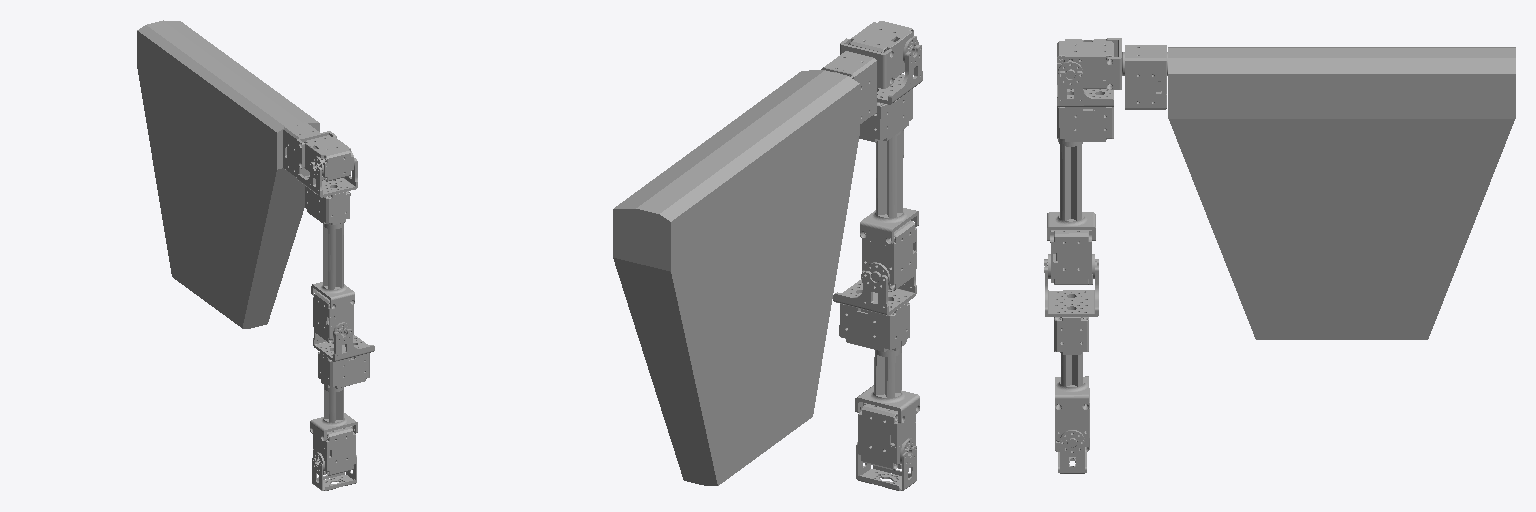
The robot description file, URDF, robot "humanoid":
<?xml version="1.0" ?>
<robot name="humanoid">
  <material name="silver">
    <color rgba="0.700 0.700 0.700 1.000"/>
  </material>
  <transmission name="rotation_26_tran">
    <type>transmission_interface/SimpleTransmission</type>
    <joint name="joint_1">
      <hardwareInterface>hardware_interface/EffortJointInterface</hardwareInterface>
    </joint>
    <actuator name="rotation_26_actr">
      <hardwareInterface>hardware_interface/EffortJointInterface</hardwareInterface>
      <mechanicalReduction>1</mechanicalReduction>
    </actuator>
  </transmission>
  <transmission name="rotation_28_tran">
    <type>transmission_interface/SimpleTransmission</type>
    <joint name="joint_2">
      <hardwareInterface>hardware_interface/EffortJointInterface</hardwareInterface>
    </joint>
    <actuator name="rotation_28_actr">
      <hardwareInterface>hardware_interface/EffortJointInterface</hardwareInterface>
      <mechanicalReduction>1</mechanicalReduction>
    </actuator>
  </transmission>
  <transmission name="rotation_30_tran">
    <type>transmission_interface/SimpleTransmission</type>
    <joint name="joint_3">
      <hardwareInterface>hardware_interface/EffortJointInterface</hardwareInterface>
    </joint>
    <actuator name="rotation_30_actr">
      <hardwareInterface>hardware_interface/EffortJointInterface</hardwareInterface>
      <mechanicalReduction>1</mechanicalReduction>
    </actuator>
  </transmission>
  <transmission name="rotation_32_tran">
    <type>transmission_interface/SimpleTransmission</type>
    <joint name="joint_4">
      <hardwareInterface>hardware_interface/EffortJointInterface</hardwareInterface>
    </joint>
    <actuator name="rotation_32_actr">
      <hardwareInterface>hardware_interface/EffortJointInterface</hardwareInterface>
      <mechanicalReduction>1</mechanicalReduction>
    </actuator>
  </transmission>
  <transmission name="rotation_34_tran">
    <type>transmission_interface/SimpleTransmission</type>
    <joint name="joint_5">
      <hardwareInterface>hardware_interface/EffortJointInterface</hardwareInterface>
    </joint>
    <actuator name="rotation_34_actr">
      <hardwareInterface>hardware_interface/EffortJointInterface</hardwareInterface>
      <mechanicalReduction>1</mechanicalReduction>
    </actuator>
  </transmission>
  <transmission name="rotation_35_tran">
    <type>transmission_interface/SimpleTransmission</type>
    <joint name="joint_6">
      <hardwareInterface>hardware_interface/EffortJointInterface</hardwareInterface>
    </joint>
    <actuator name="rotation_35_actr">
      <hardwareInterface>hardware_interface/EffortJointInterface</hardwareInterface>
      <mechanicalReduction>1</mechanicalReduction>
    </actuator>
  </transmission>
  <gazebo>
    <plugin filename="libgazebo_ros_control.so" name="control"/>
  </gazebo>
  <gazebo reference="base_link">
    <material>Gazebo/Silver</material>
    <mu1>0.2</mu1>
    <mu2>0.2</mu2>
    <self_collide>true</self_collide>
    <gravity>true</gravity>
  </gazebo>
  <gazebo reference="upper_arm_1">
    <material>Gazebo/Silver</material>
    <mu1>0.2</mu1>
    <mu2>0.2</mu2>
    <self_collide>true</self_collide>
  </gazebo>
  <gazebo reference="lower_arm_1">
    <material>Gazebo/Silver</material>
    <mu1>0.2</mu1>
    <mu2>0.2</mu2>
    <self_collide>true</self_collide>
  </gazebo>
  <gazebo reference="Shoulder_Yaw_XL430_1">
    <material>Gazebo/Silver</material>
    <mu1>0.2</mu1>
    <mu2>0.2</mu2>
    <self_collide>true</self_collide>
  </gazebo>
  <gazebo reference="carbon_pipe_conn_1_1">
    <material>Gazebo/Silver</material>
    <mu1>0.2</mu1>
    <mu2>0.2</mu2>
    <self_collide>true</self_collide>
  </gazebo>
  <gazebo reference="Shoulder_Roll_XL430_1">
    <material>Gazebo/Silver</material>
    <mu1>0.2</mu1>
    <mu2>0.2</mu2>
    <self_collide>true</self_collide>
  </gazebo>
  <gazebo reference="fr12-h104_v1_1">
    <material>Gazebo/Silver</material>
    <mu1>0.2</mu1>
    <mu2>0.2</mu2>
    <self_collide>true</self_collide>
  </gazebo>
  <gazebo reference="fr12-h104_v1_2_1">
    <material>Gazebo/Silver</material>
    <mu1>0.2</mu1>
    <mu2>0.2</mu2>
    <self_collide>true</self_collide>
  </gazebo>
  <gazebo reference="Wrist_Yaw_XL430_1">
    <material>Gazebo/Silver</material>
    <mu1>0.2</mu1>
    <mu2>0.2</mu2>
    <self_collide>true</self_collide>
  </gazebo>
  <gazebo reference="lower_arm_conn_1_1">
    <material>Gazebo/Silver</material>
    <mu1>0.2</mu1>
    <mu2>0.2</mu2>
    <self_collide>true</self_collide>
  </gazebo>
  <gazebo reference="fr12_h101_k_v1_1">
    <material>Gazebo/Silver</material>
    <mu1>0.2</mu1>
    <mu2>0.2</mu2>
    <self_collide>true</self_collide>
  </gazebo>
  <gazebo reference="fr12_s102_k_v1_1">
    <material>Gazebo/Silver</material>
    <mu1>0.2</mu1>
    <mu2>0.2</mu2>
    <self_collide>true</self_collide>
  </gazebo>
  <gazebo reference="Shoulder_Pitch_XM430_1">
    <material>Gazebo/Silver</material>
    <mu1>0.2</mu1>
    <mu2>0.2</mu2>
    <self_collide>true</self_collide>
  </gazebo>
  <gazebo reference="carbon_pipe_conn_2_1">
    <material>Gazebo/Silver</material>
    <mu1>0.2</mu1>
    <mu2>0.2</mu2>
    <self_collide>true</self_collide>
  </gazebo>
  <gazebo reference="Elbow_XL430_1">
    <material>Gazebo/Silver</material>
    <mu1>0.2</mu1>
    <mu2>0.2</mu2>
    <self_collide>true</self_collide>
  </gazebo>
  <gazebo reference="lower_arm_conn_2_1">
    <material>Gazebo/Silver</material>
    <mu1>0.2</mu1>
    <mu2>0.2</mu2>
    <self_collide>true</self_collide>
  </gazebo>
  <gazebo reference="Wrist_Pitch_XL430_1">
    <material>Gazebo/Silver</material>
    <mu1>0.2</mu1>
    <mu2>0.2</mu2>
    <self_collide>true</self_collide>
  </gazebo>
  <link name="base_link">
    <inertial>
      <origin rpy="0 0 0" xyz="0.0019389896012693933 0.15950000128041772 -0.05703969315432973"/>
      <mass value="18.957791731760725"/>
      <inertia ixx="0.180447" ixy="-0.0" ixz="-0.003631" iyy="0.090501" iyz="-0.0" izz="0.096421"/>
    </inertial>
    <visual>
      <origin rpy="0 0 0" xyz="0 0 0"/>
      <geometry>
        <mesh filename="package://my_robot_description/meshes/base_link.stl" scale="0.001 0.001 0.001"/>
      </geometry>
      <material name="silver"/>
    </visual>
    <collision>
      <origin rpy="0 0 0" xyz="0 0 0"/>
      <geometry>
        <mesh filename="package://my_robot_description/meshes/base_link.stl" scale="0.001 0.001 0.001"/>
      </geometry>
    </collision>
  </link>
  <link name="fr12-h104_v1_1">
    <inertial>
      <origin rpy="0 0 0" xyz="-0.019000000027990363 0.00924536069283382 -0.022923063335073136"/>
      <mass value="0.07125966468176162"/>
      <inertia ixx="1.7e-05" ixy="0.0" ixz="0.0" iyy="2.4e-05" iyz="3e-06" izz="3.2e-05"/>
    </inertial>
    <visual>
      <origin rpy="0 0 0" xyz="-0.019 0.061 -0.035"/>
      <geometry>
        <mesh filename="package://my_robot_description/meshes/fr12-h104_v1_1.stl" scale="0.001 0.001 0.001"/>
      </geometry>
      <material name="silver"/>
    </visual>
    <collision>
      <origin rpy="0 0 0" xyz="-0.019 0.061 -0.035"/>
      <geometry>
        <mesh filename="package://my_robot_description/meshes/fr12-h104_v1_1.stl" scale="0.001 0.001 0.001"/>
      </geometry>
    </collision>
  </link>
  <link name="fr12-h104_v1_2_1">
    <inertial>
      <origin rpy="0 0 0" xyz="0.009428841694465943 -0.018902428335659173 -0.022929342031571293"/>
      <mass value="0.07125966468176151"/>
      <inertia ixx="2.4e-05" ixy="-0.0" ixz="3e-06" iyy="1.7e-05" iyz="-0.0" izz="3.2e-05"/>
    </inertial>
    <visual>
      <origin rpy="0 0 0" xyz="0.0 0.041225 0.146417"/>
      <geometry>
        <mesh filename="package://my_robot_description/meshes/fr12-h104_v1_2_1.stl" scale="0.001 0.001 0.001"/>
      </geometry>
      <material name="silver"/>
    </visual>
    <collision>
      <origin rpy="0 0 0" xyz="0.0 0.041225 0.146417"/>
      <geometry>
        <mesh filename="package://my_robot_description/meshes/fr12-h104_v1_2_1.stl" scale="0.001 0.001 0.001"/>
      </geometry>
    </collision>
  </link>
  <link name="fr12_h101_k_v1_1">
    <inertial>
      <origin rpy="0 0 0" xyz="-0.018752122086905684 8.693996043317165e-05 -0.02031172854563601"/>
      <mass value="0.02254867746596245"/>
      <inertia ixx="3e-06" ixy="0.0" ixz="-0.0" iyy="8e-06" iyz="0.0" izz="7e-06"/>
    </inertial>
    <visual>
      <origin rpy="0 0 0" xyz="-0.020821 0.059593 0.294552"/>
      <geometry>
        <mesh filename="package://my_robot_description/meshes/fr12_h101_k_v1_1.stl" scale="0.001 0.001 0.001"/>
      </geometry>
      <material name="silver"/>
    </visual>
    <collision>
      <origin rpy="0 0 0" xyz="-0.020821 0.059593 0.294552"/>
      <geometry>
        <mesh filename="package://my_robot_description/meshes/fr12_h101_k_v1_1.stl" scale="0.001 0.001 0.001"/>
      </geometry>
    </collision>
  </link>
  <link name="Shoulder_Pitch_XM430_1">
    <inertial>
      <origin rpy="0 0 0" xyz="-1.6389011103993567e-05 -0.018904775836009923 -0.011562219504417923"/>
      <mass value="0.34558335606079355"/>
      <inertia ixx="9.6e-05" ixy="-0.0" ixz="0.0" iyy="8.3e-05" iyz="0.0" izz="5.7e-05"/>
    </inertial>
    <visual>
      <origin rpy="0 0 0" xyz="-0.0 -0.0185 -0.035"/>
      <geometry>
        <mesh filename="package://my_robot_description/meshes/Shoulder_Pitch_XM430_1.stl" scale="0.001 0.001 0.001"/>
      </geometry>
      <material name="silver"/>
    </visual>
    <collision>
      <origin rpy="0 0 0" xyz="-0.0 -0.0185 -0.035"/>
      <geometry>
        <mesh filename="package://my_robot_description/meshes/Shoulder_Pitch_XM430_1.stl" scale="0.001 0.001 0.001"/>
      </geometry>
    </collision>
  </link>
  <link name="Wrist_Yaw_XL430_1">
    <inertial>
      <origin rpy="0 0 0" xyz="0.011919089169657358 5.26502581171262e-05 -0.017511037277260305"/>
      <mass value="0.332351713588269"/>
      <inertia ixx="5.3e-05" ixy="0.0" ixz="-1e-06" iyy="9e-05" iyz="0.0" izz="8e-05"/>
    </inertial>
    <visual>
      <origin rpy="0 0 0" xyz="-0.000362 0.060099 0.175996"/>
      <geometry>
        <mesh filename="package://my_robot_description/meshes/Wrist_Yaw_XL430_1.stl" scale="0.001 0.001 0.001"/>
      </geometry>
      <material name="silver"/>
    </visual>
    <collision>
      <origin rpy="0 0 0" xyz="-0.000362 0.060099 0.175996"/>
      <geometry>
        <mesh filename="package://my_robot_description/meshes/Wrist_Yaw_XL430_1.stl" scale="0.001 0.001 0.001"/>
      </geometry>
    </collision>
  </link>
  <link name="Shoulder_Yaw_XL430_1">
    <inertial>
      <origin rpy="0 0 0" xyz="5.293209000168377e-05 0.011968009414415691 -0.017894488212716914"/>
      <mass value="0.3270705231000746"/>
      <inertia ixx="8.8e-05" ixy="0.0" ixz="-0.0" iyy="5.1e-05" iyz="-2e-06" izz="7.8e-05"/>
    </inertial>
    <visual>
      <origin rpy="0 0 0" xyz="-0.0 0.060874 -0.0055"/>
      <geometry>
        <mesh filename="package://my_robot_description/meshes/Shoulder_Yaw_XL430_1.stl" scale="0.001 0.001 0.001"/>
      </geometry>
      <material name="silver"/>
    </visual>
    <collision>
      <origin rpy="0 0 0" xyz="-0.0 0.060874 -0.0055"/>
      <geometry>
        <mesh filename="package://my_robot_description/meshes/Shoulder_Yaw_XL430_1.stl" scale="0.001 0.001 0.001"/>
      </geometry>
    </collision>
  </link>
  <link name="humanoid_robot_arm_v2_lower_arm_conn_1_v2_1">
    <inertial>
      <origin rpy="0 0 0" xyz="0.00037305548468012184 0.00012938105191623306 -0.030375556859080638"/>
      <mass value="0.10004475950123304"/>
      <inertia ixx="2.6e-05" ixy="-0.0" ixz="0.0" iyy="3.1e-05" iyz="0.0" izz="1.3e-05"/>
    </inertial>
    <visual>
      <origin rpy="0 0 0" xyz="-0.000805 0.059945 0.211993"/>
      <geometry>
        <mesh filename="package://my_robot_description/meshes/humanoid_robot_arm_v2_lower_arm_conn_1_v2_1.stl" scale="0.001 0.001 0.001"/>
      </geometry>
      <material name="silver"/>
    </visual>
    <collision>
      <origin rpy="0 0 0" xyz="-0.000805 0.059945 0.211993"/>
      <geometry>
        <mesh filename="package://my_robot_description/meshes/humanoid_robot_arm_v2_lower_arm_conn_1_v2_1.stl" scale="0.001 0.001 0.001"/>
      </geometry>
    </collision>
  </link>
  <link name="Wrist_Pitch_XL430_1">
    <inertial>
      <origin rpy="0 0 0" xyz="-0.020197597349777777 0.01040473058790866 0.18106798222377157"/>
      <mass value="0.33428633030804084"/>
      <inertia ixx="8e-05" ixy="-0.0" ixz="1e-06" iyy="9.1e-05" iyz="0.0" izz="5.4e-05"/>
    </inertial>
    <visual>
      <origin rpy="0 0 0" xyz="-0.022433 0.070098 0.464218"/>
      <geometry>
        <mesh filename="package://my_robot_description/meshes/Wrist_Pitch_XL430_1.stl" scale="0.001 0.001 0.001"/>
      </geometry>
      <material name="silver"/>
    </visual>
    <collision>
      <origin rpy="0 0 0" xyz="-0.022433 0.070098 0.464218"/>
      <geometry>
        <mesh filename="package://my_robot_description/meshes/Wrist_Pitch_XL430_1.stl" scale="0.001 0.001 0.001"/>
      </geometry>
    </collision>
  </link>
  <link name="humanoid_robot_arm_v2_lower_arm_conn_2_v2_1">
    <inertial>
      <origin rpy="0 0 0" xyz="2.1316282072803005e-16 0.00021220022900693414 -0.04976868936760821"/>
      <mass value="0.13838106198037062"/>
      <inertia ixx="0.000103" ixy="-0.0" ixz="-0.0" iyy="9.9e-05" iyz="0.0" izz="1.5e-05"/>
    </inertial>
    <visual>
      <origin rpy="0 0 0" xyz="-0.0 0.06072 0.030499"/>
      <geometry>
        <mesh filename="package://my_robot_description/meshes/humanoid_robot_arm_v2_lower_arm_conn_2_v2_1.stl" scale="0.001 0.001 0.001"/>
      </geometry>
      <material name="silver"/>
    </visual>
    <collision>
      <origin rpy="0 0 0" xyz="-0.0 0.06072 0.030499"/>
      <geometry>
        <mesh filename="package://my_robot_description/meshes/humanoid_robot_arm_v2_lower_arm_conn_2_v2_1.stl" scale="0.001 0.001 0.001"/>
      </geometry>
    </collision>
  </link>
  <link name="Elbow_XL430_1">
    <inertial>
      <origin rpy="0 0 0" xyz="-0.01606114348289328 0.011521258639091397 0.033115232379450465"/>
      <mass value="0.33505485435315263"/>
      <inertia ixx="9.2e-05" ixy="0.0" ixz="0.0" iyy="8e-05" iyz="1e-06" izz="5.4e-05"/>
    </inertial>
    <visual>
      <origin rpy="0 0 0" xyz="-0.016138 0.071233 0.167972"/>
      <geometry>
        <mesh filename="package://my_robot_description/meshes/Elbow_XL430_1.stl" scale="0.001 0.001 0.001"/>
      </geometry>
      <material name="silver"/>
    </visual>
    <collision>
      <origin rpy="0 0 0" xyz="-0.016138 0.071233 0.167972"/>
      <geometry>
        <mesh filename="package://my_robot_description/meshes/Elbow_XL430_1.stl" scale="0.001 0.001 0.001"/>
      </geometry>
    </collision>
  </link>
  <link name="fr12_s102_k_v1_1">
    <inertial>
      <origin rpy="0 0 0" xyz="3.525390433170876e-14 -0.003644275137648721 -1.0408340855860843e-16"/>
      <mass value="0.033467756194338324"/>
      <inertia ixx="3e-06" ixy="0.0" ixz="0.0" iyy="9e-06" iyz="0.0" izz="7e-06"/>
    </inertial>
    <visual>
      <origin rpy="0 0 0" xyz="-0.0 0.019 -0.035"/>
      <geometry>
        <mesh filename="package://my_robot_description/meshes/fr12_s102_k_v1_1.stl" scale="0.001 0.001 0.001"/>
      </geometry>
      <material name="silver"/>
    </visual>
    <collision>
      <origin rpy="0 0 0" xyz="-0.0 0.019 -0.035"/>
      <geometry>
        <mesh filename="package://my_robot_description/meshes/fr12_s102_k_v1_1.stl" scale="0.001 0.001 0.001"/>
      </geometry>
    </collision>
  </link>
  <link name="Shoulder_Roll_XL430_1">
    <inertial>
      <origin rpy="0 0 0" xyz="-0.01644381607383257 -0.05536984816863976 -0.028948210488610543"/>
      <mass value="0.334286343299632"/>
      <inertia ixx="8e-05" ixy="0.0" ixz="0.0" iyy="5.4e-05" iyz="0.0" izz="9.1e-05"/>
    </inertial>
    <visual>
      <origin rpy="0 0 0" xyz="-0.017 -0.006 -0.064"/>
      <geometry>
        <mesh filename="package://my_robot_description/meshes/Shoulder_Roll_XL430_1.stl" scale="0.001 0.001 0.001"/>
      </geometry>
      <material name="silver"/>
    </visual>
    <collision>
      <origin rpy="0 0 0" xyz="-0.017 -0.006 -0.064"/>
      <geometry>
        <mesh filename="package://my_robot_description/meshes/Shoulder_Roll_XL430_1.stl" scale="0.001 0.001 0.001"/>
      </geometry>
    </collision>
  </link>
  <joint name="joint_2" type="continuous">
    <origin rpy="0 0 0" xyz="0.002 -0.067 -0.029"/>
    <parent link="Shoulder_Roll_XL430_1"/>
    <child link="fr12-h104_v1_1"/>
    <axis xyz="1.0 0.0 0.0"/>
  </joint>
  <joint name="joint_4" type="continuous">
    <origin rpy="0 0 0" xyz="-0.016138 0.030008 0.021555"/>
    <parent link="Elbow_XL430_1"/>
    <child link="fr12-h104_v1_2_1"/>
    <axis xyz="-0.0 0.999991 0.00427"/>
  </joint>
  <joint name="joint_6" type="continuous">
    <origin rpy="0 0 0" xyz="-0.001612 0.010505 0.169666"/>
    <parent link="Wrist_Pitch_XL430_1"/>
    <child link="fr12_h101_k_v1_1"/>
    <axis xyz="0.999925 -5.2e-05 0.012287"/>
  </joint>
  <joint name="fixed_38" type="fixed">
    <origin rpy="0 0 0" xyz="0.0 0.0185 0.035"/>
    <parent link="base_link"/>
    <child link="Shoulder_Pitch_XM430_1"/>
  </joint>
  <joint name="fixed_46" type="fixed">
    <origin rpy="0 0 0" xyz="0.000362 -0.018874 -0.029579"/>
    <parent link="fr12-h104_v1_2_1"/>
    <child link="Wrist_Yaw_XL430_1"/>
  </joint>
  <joint name="fixed_47" type="fixed">
    <origin rpy="0 0 0" xyz="-0.019 0.000126 -0.0295"/>
    <parent link="fr12-h104_v1_1"/>
    <child link="Shoulder_Yaw_XL430_1"/>
  </joint>
  <joint name="joint_5" type="continuous">
    <origin rpy="0 0 0" xyz="0.000443 0.000154 -0.035997"/>
    <parent link="Wrist_Yaw_XL430_1"/>
    <child link="humanoid_robot_arm_v2_lower_arm_conn_1_v2_1"/>
    <axis xyz="0.012287 0.00427 -0.999915"/>
  </joint>
  <joint name="fixed_49" type="fixed">
    <origin rpy="0 0 0" xyz="0.021628 -0.010153 -0.252225"/>
    <parent link="humanoid_robot_arm_v2_lower_arm_conn_1_v2_1"/>
    <child link="Wrist_Pitch_XL430_1"/>
  </joint>
  <joint name="joint_3" type="continuous">
    <origin rpy="0 0 0" xyz="0.0 0.000154 -0.035999"/>
    <parent link="Shoulder_Yaw_XL430_1"/>
    <child link="humanoid_robot_arm_v2_lower_arm_conn_2_v2_1"/>
    <axis xyz="-0.0 0.00427 -0.999991"/>
  </joint>
  <joint name="fixed_51" type="fixed">
    <origin rpy="0 0 0" xyz="0.016138 -0.010513 -0.137473"/>
    <parent link="humanoid_robot_arm_v2_lower_arm_conn_2_v2_1"/>
    <child link="Elbow_XL430_1"/>
  </joint>
  <joint name="joint_1" type="continuous">
    <origin rpy="0 0 0" xyz="0.0 -0.0375 0.0"/>
    <parent link="Shoulder_Pitch_XM430_1"/>
    <child link="fr12_s102_k_v1_1"/>
    <axis xyz="0.0 -1.0 -0.0"/>
  </joint>
  <joint name="fixed_53" type="fixed">
    <origin rpy="0 0 0" xyz="0.017 0.025 0.029"/>
    <parent link="fr12_s102_k_v1_1"/>
    <child link="Shoulder_Roll_XL430_1"/>
  </joint>
</robot>

--- Render facts (derived) ---
Views: 3 orthographic renders of the robot side by side, from view 1: azimuth 30°, elevation 25°; view 2: azimuth 150°, elevation 25°; view 3: azimuth 270°, elevation 25°.
Model humanoid with 13 links and 12 joints (6 continuous, 6 fixed), rooted at base_link, posed all joints at 0.
Links seen in each view (by area): view 1: base_link, humanoid_robot_arm_v2_lower_arm_conn_2_v2_1, Shoulder_Roll_XL430_1, Wrist_Pitch_XL430_1, Wrist_Yaw_XL430_1, Elbow_XL430_1, humanoid_robot_arm_v2_lower_arm_conn_1_v2_1, Shoulder_Yaw_XL430_1, fr12-h104_v1_2_1, fr12-h104_v1_1, Shoulder_Pitch_XM430_1, fr12_h101_k_v1_1; view 2: base_link, humanoid_robot_arm_v2_lower_arm_conn_2_v2_1, Wrist_Pitch_XL430_1, Wrist_Yaw_XL430_1, Elbow_XL430_1, humanoid_robot_arm_v2_lower_arm_conn_1_v2_1, fr12-h104_v1_2_1, Shoulder_Roll_XL430_1, Shoulder_Pitch_XM430_1, Shoulder_Yaw_XL430_1, fr12_h101_k_v1_1, fr12-h104_v1_1 (+1 smaller); view 3: base_link, Shoulder_Pitch_XM430_1, humanoid_robot_arm_v2_lower_arm_conn_2_v2_1, Elbow_XL430_1, Shoulder_Roll_XL430_1, Shoulder_Yaw_XL430_1, fr12-h104_v1_2_1, humanoid_robot_arm_v2_lower_arm_conn_1_v2_1, fr12-h104_v1_1, Wrist_Yaw_XL430_1, Wrist_Pitch_XL430_1, fr12_h101_k_v1_1 (+1 smaller).
Boxes of the visible links, <box> form: base_link: <box>137,20,319,328</box>; humanoid_robot_arm_v2_lower_arm_conn_2_v2_1: <box>311,223,354,309</box>; Shoulder_Roll_XL430_1: <box>304,135,354,181</box>; Wrist_Pitch_XL430_1: <box>313,426,355,475</box>; Wrist_Yaw_XL430_1: <box>318,345,369,388</box>; Elbow_XL430_1: <box>313,291,353,342</box>; humanoid_robot_arm_v2_lower_arm_conn_1_v2_1: <box>310,386,357,441</box>; Shoulder_Yaw_XL430_1: <box>305,186,350,225</box>; fr12-h104_v1_2_1: <box>313,329,374,361</box>; fr12-h104_v1_1: <box>297,158,357,197</box>; Shoulder_Pitch_XM430_1: <box>283,122,319,177</box>; fr12_h101_k_v1_1: <box>312,455,356,490</box>; base_link: <box>613,70,859,485</box>; humanoid_robot_arm_v2_lower_arm_conn_2_v2_1: <box>860,129,918,244</box>; Wrist_Pitch_XL430_1: <box>858,403,915,470</box>; Wrist_Yaw_XL430_1: <box>839,293,909,351</box>; Elbow_XL430_1: <box>862,220,916,290</box>; humanoid_robot_arm_v2_lower_arm_conn_1_v2_1: <box>855,348,919,423</box>; fr12-h104_v1_2_1: <box>833,270,916,315</box>; Shoulder_Roll_XL430_1: <box>850,21,918,78</box>; Shoulder_Pitch_XM430_1: <box>821,51,876,124</box>; Shoulder_Yaw_XL430_1: <box>859,89,912,142</box>; fr12_h101_k_v1_1: <box>856,442,916,490</box>; fr12-h104_v1_1: <box>877,45,922,104</box>; base_link: <box>1168,47,1515,339</box>; Shoulder_Pitch_XM430_1: <box>1122,45,1167,109</box>; humanoid_robot_arm_v2_lower_arm_conn_2_v2_1: <box>1047,139,1095,240</box>; Elbow_XL430_1: <box>1047,230,1096,284</box>; Shoulder_Roll_XL430_1: <box>1057,39,1113,88</box>; Shoulder_Yaw_XL430_1: <box>1057,95,1113,141</box>; fr12-h104_v1_2_1: <box>1044,259,1098,316</box>; humanoid_robot_arm_v2_lower_arm_conn_1_v2_1: <box>1055,353,1088,409</box>; fr12-h104_v1_1: <box>1057,71,1113,106</box>; Wrist_Yaw_XL430_1: <box>1054,317,1088,354</box>; Wrist_Pitch_XL430_1: <box>1055,388,1089,451</box>; fr12_h101_k_v1_1: <box>1058,440,1086,473</box>.
Bounding box of the posed robot: 0.058 × 0.3827 × 0.3723 m (x, y, z).
Meshes: 13 distinct files referenced, 13 mesh visuals loaded (13 binary STL).
